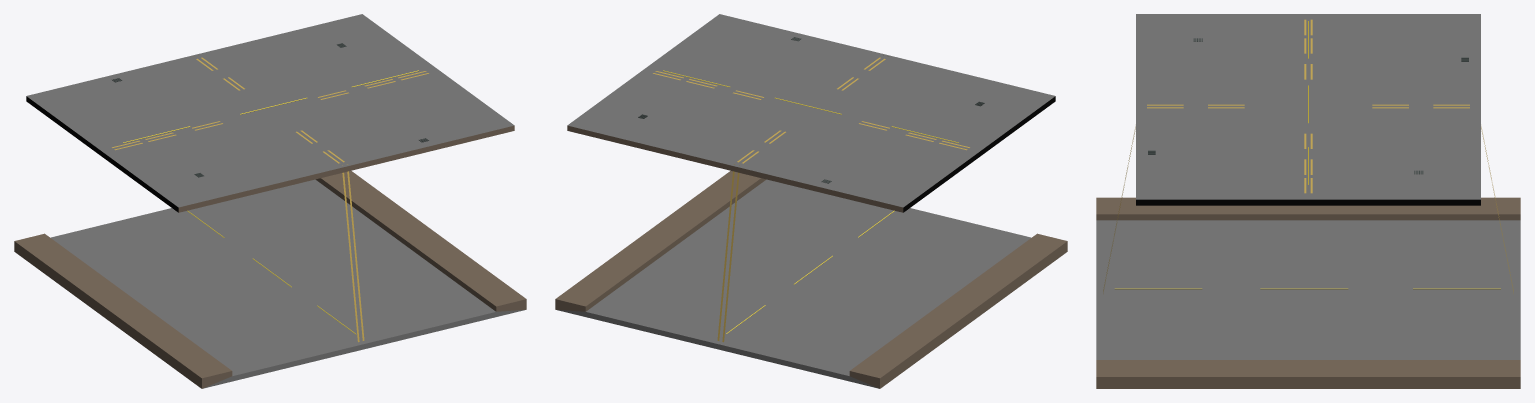
The picture shows the model from 3 angles, left to right: view 1: azimuth 30°, elevation 25°; view 2: azimuth 150°, elevation 25°; view 3: azimuth 270°, elevation 25°; orthographic projection. The views are drawn at different scales.
Parts seen in each view (by area): view 1: RD76 | archived geometry, Fitted street and landscape details, RD76 | line, light and sprite surfaces; view 2: RD76 | archived geometry, Fitted street and landscape details, RD76 | line, light and sprite surfaces; view 3: RD76 | archived geometry, Fitted street and landscape details, RD76 | line, light and sprite surfaces.
Boxes of the visible parts, <box> form: RD76 | archived geometry: <box>14,14,526,388</box>; Fitted street and landscape details: <box>112,43,428,342</box>; RD76 | line, light and sprite surfaces: <box>123,70,418,334</box>; RD76 | archived geometry: <box>555,14,1067,388</box>; Fitted street and landscape details: <box>638,37,984,342</box>; RD76 | line, light and sprite surfaces: <box>663,70,958,333</box>; RD76 | archived geometry: <box>1096,14,1520,388</box>; Fitted street and landscape details: <box>1103,19,1513,293</box>; RD76 | line, light and sprite surfaces: <box>1115,21,1500,289</box>.
Size of the model in its own units: 16.56 by 8.19 by 16.
